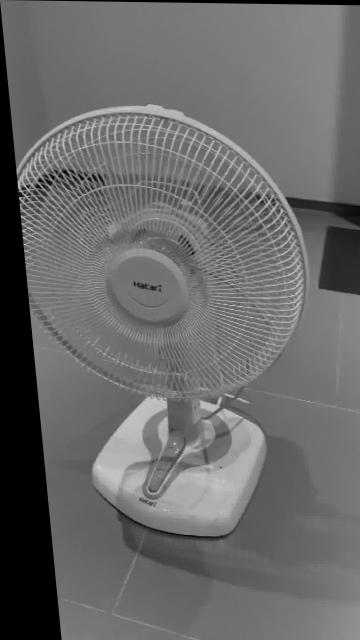Fan: (13, 104, 302, 539)
